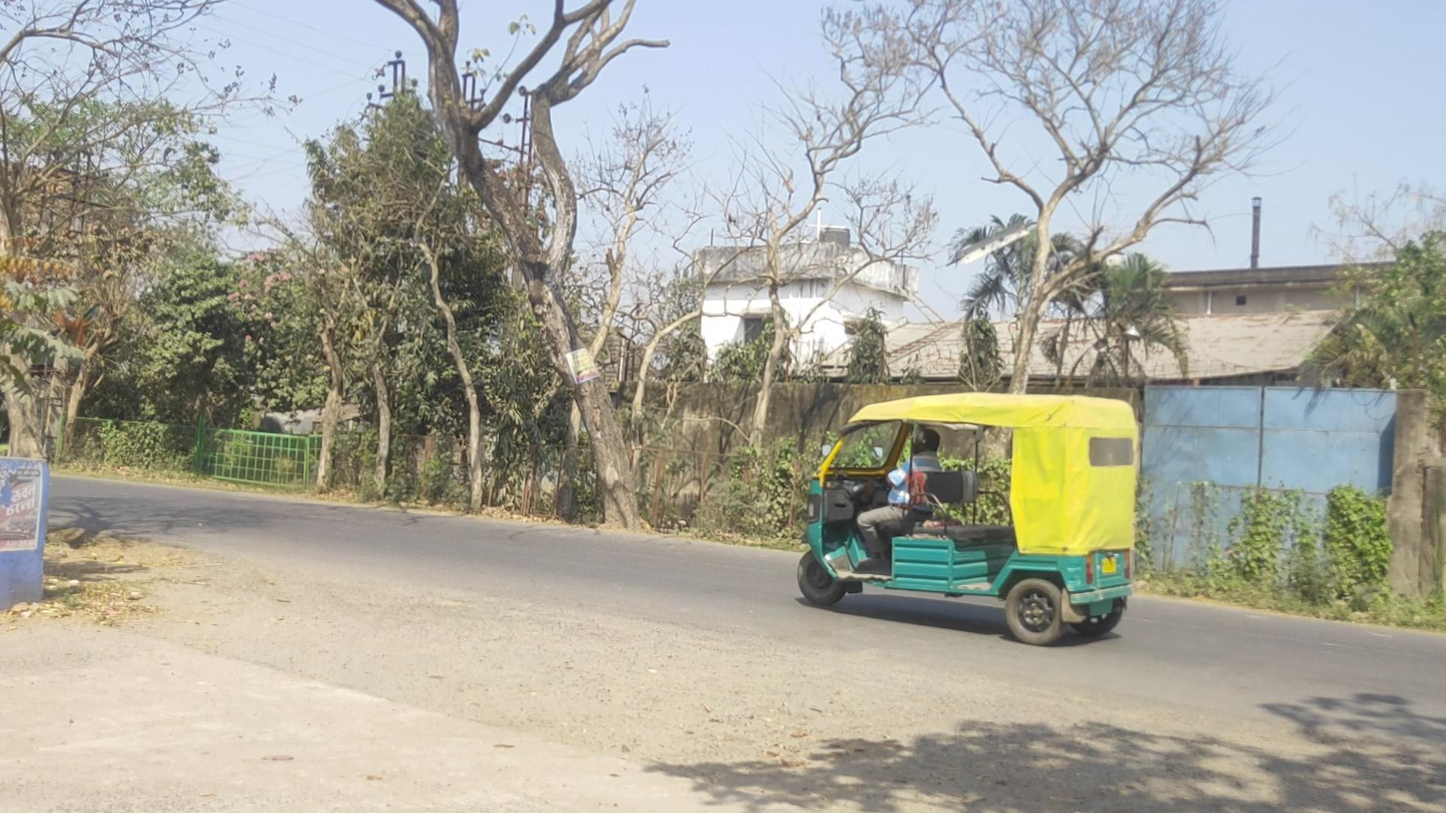Auto: (798, 393, 1139, 645)
